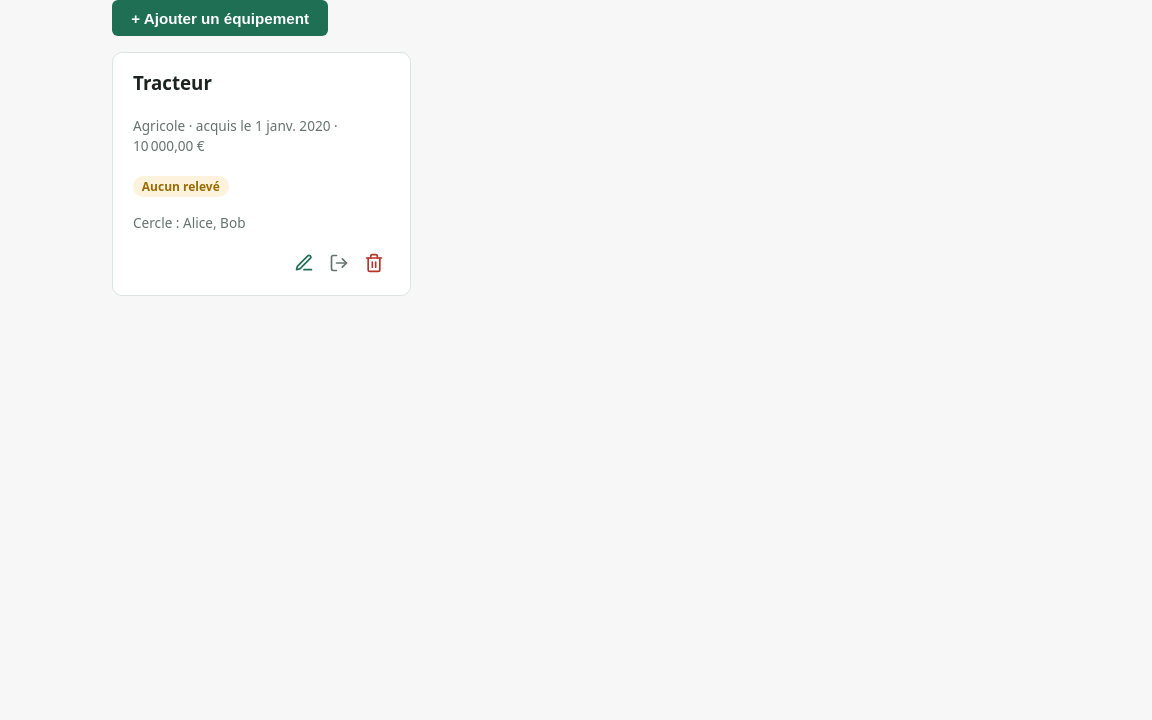
Test: quitter le cercle › affiche le refus du serveur sans faire disparaître l’équipement
The image size is (1152, 720).
Click the button named "Quitter le cercle" at (339, 263), box [323, 247, 354, 278]
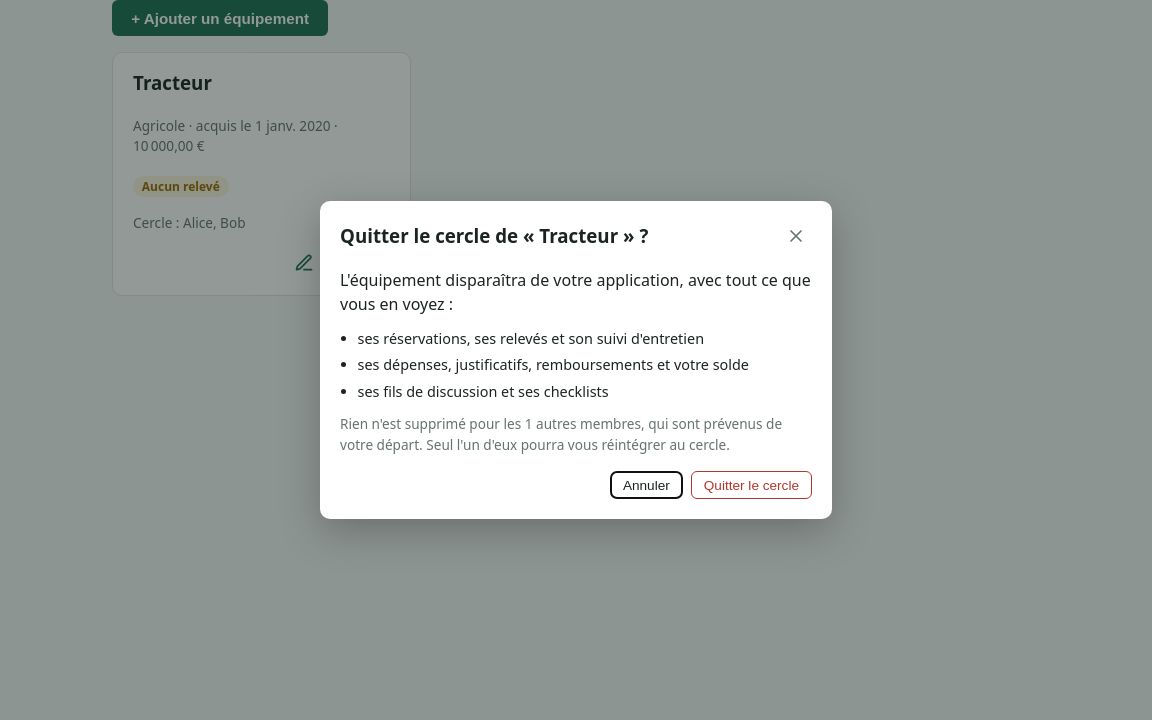
Click the button "Quitter le cercle" at (751, 485), box [691, 471, 812, 499]
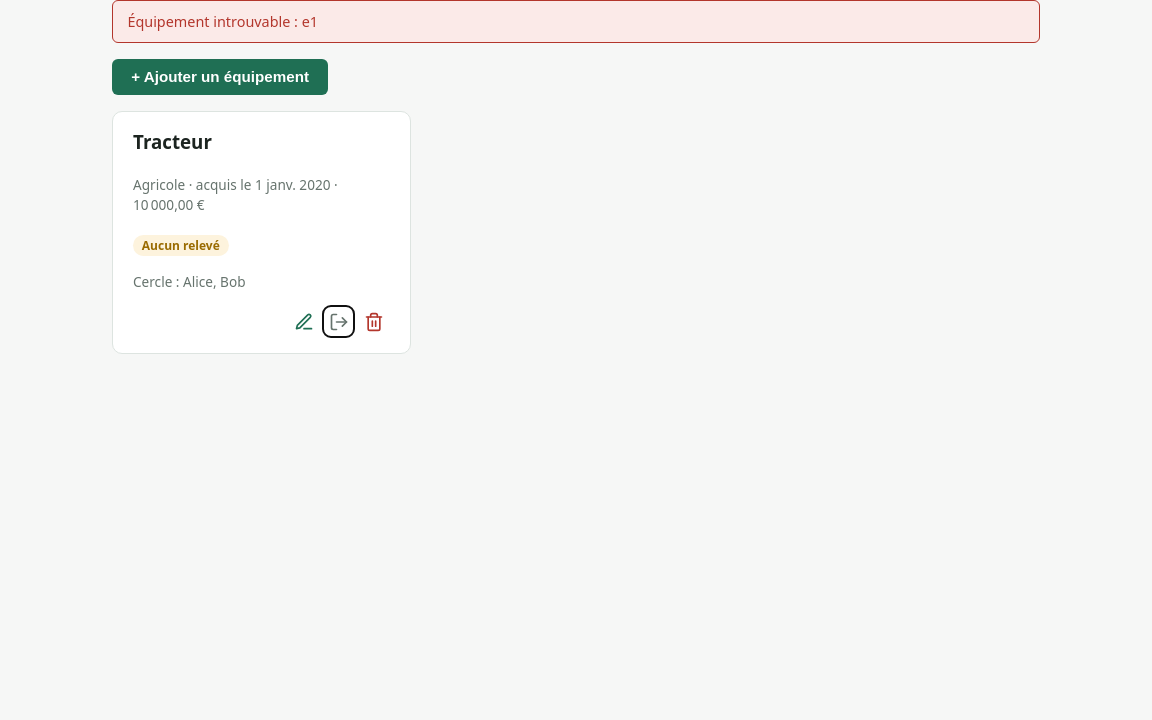
expect the heading "Tracteur" is shown: met, box [133, 129, 212, 154]
expect the text "Équipement introuvable : e1" is shown: met, box [112, 0, 1040, 43]
